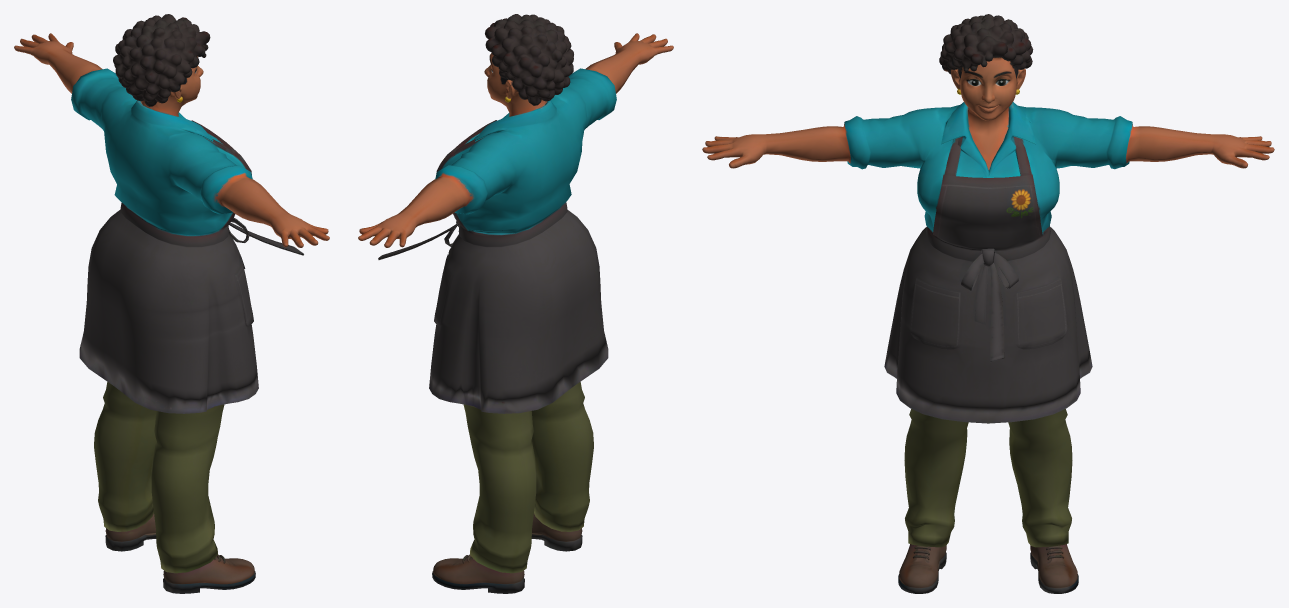
Rendered from tripo_convert_39bff9e8-50aa-4598-b233-eae59e420704.glb.
3 renders of one model, left to right at view 1: azimuth 30°, elevation 25°; view 2: azimuth 150°, elevation 25°; view 3: azimuth 270°, elevation 25°, orthographic.
Parts seen in each view (by area): view 1: tripo_node_39bff9e8-50aa-4598-b233-eae59e420704; view 2: tripo_node_39bff9e8-50aa-4598-b233-eae59e420704; view 3: tripo_node_39bff9e8-50aa-4598-b233-eae59e420704.
Boxes of the visible parts, bbox=[...] form: tripo_node_39bff9e8-50aa-4598-b233-eae59e420704: bbox=[14, 14, 329, 593]; tripo_node_39bff9e8-50aa-4598-b233-eae59e420704: bbox=[358, 14, 673, 593]; tripo_node_39bff9e8-50aa-4598-b233-eae59e420704: bbox=[702, 14, 1274, 593].
Bounding box in the file's own units: 0.3745 × 0.9995 × 0.9468.
1 material, 1 textured.
